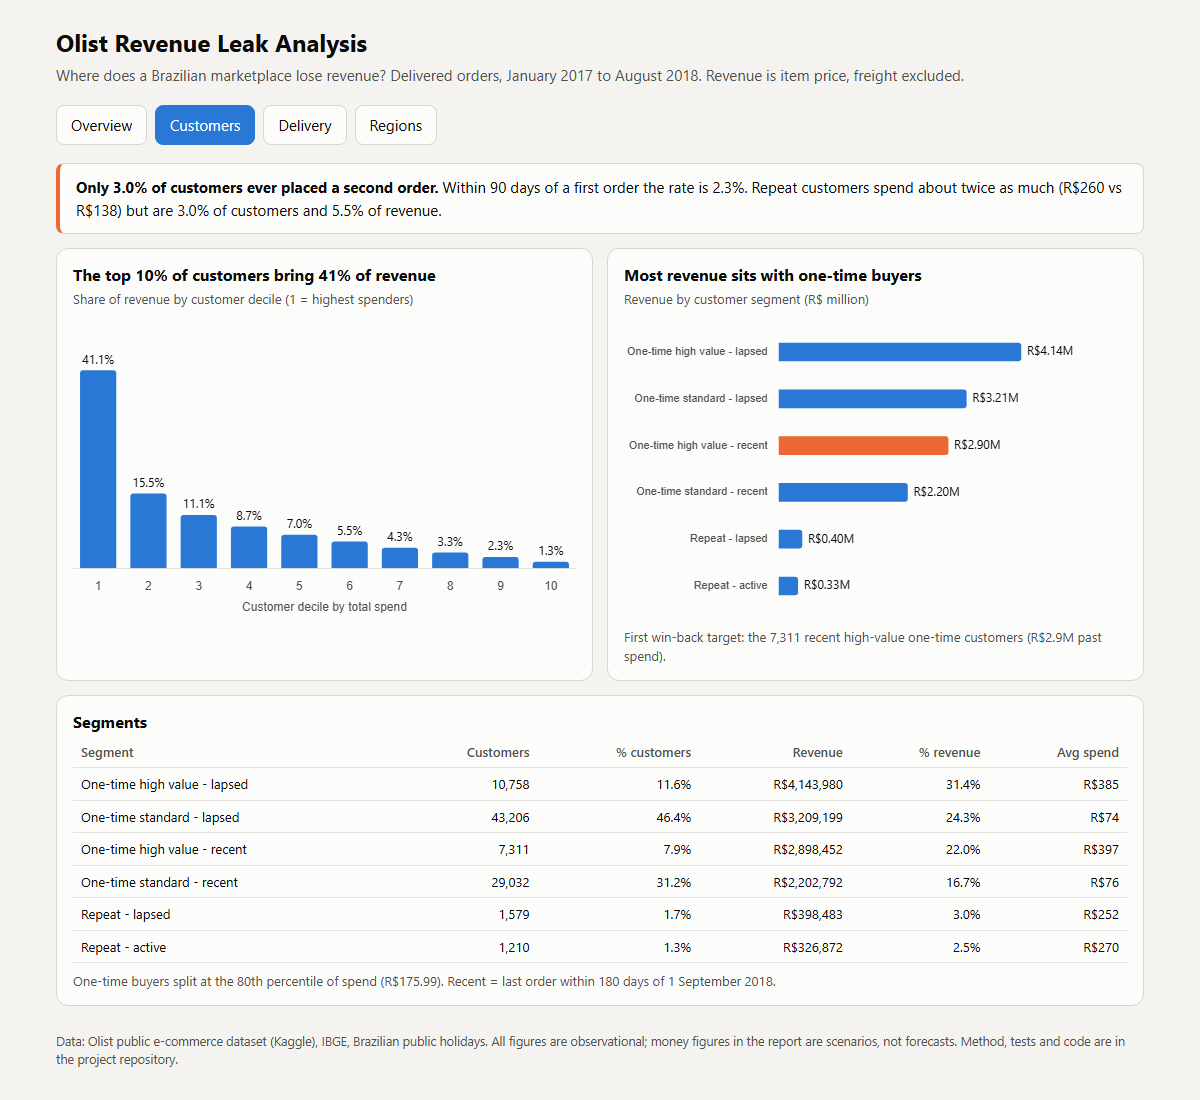

The dashboard page shown, as its layout file describes it:
{"tool":"powerbi","page":{"name":"Customers","canvas":[1280,720],"ordinal":1},"visuals":[{"type":"textbox","box":[20,12,900,44],"z":0},{"type":"textbox","box":[440,80,820,70],"z":10},{"type":"card","fields":{"Values":["fact_orders.Repeat Rate"]},"box":[20,70,195,90],"z":20},{"type":"card","fields":{"Values":["fact_orders.Repeat Customers"]},"box":[225,70,195,90],"z":30},{"type":"clusteredColumnChart","title":"The top 10% of customers bring 41% of revenue (decile 1 = highest spenders)","fields":{"Category":["rfm_segments.decile"],"Y":["rfm_segments.Segment Revenue %"]},"box":[20,170,620,290],"z":40},{"type":"clusteredBarChart","title":"Most revenue sits with one-time buyers","fields":{"Category":["rfm_segments.segment"],"Y":["rfm_segments.Segment Revenue"]},"box":[660,170,600,290],"z":50},{"type":"tableEx","title":"Customer segments","fields":{"Values":["rfm_segments.segment","rfm_segments.Segment Customers","rfm_segments.Segment Revenue","rfm_segments.Segment Revenue %"]},"box":[20,475,1240,230],"z":60}]}

Visuals, with their boxes on the page's 1280x720 design canvas (x1, y1, x2, y2). These are canvas units, not pixel positions in the 1200x1100 screenshot, which may show the page scaled, cropped or inside an application window:
textbox: left=20, top=12, right=920, bottom=56
textbox: left=440, top=80, right=1260, bottom=150
card - fact_orders.Repeat Rate: left=20, top=70, right=215, bottom=160
card - fact_orders.Repeat Customers: left=225, top=70, right=420, bottom=160
"The top 10% of customers bring 41% of revenue (decile 1 = highest spenders)" clusteredColumnChart: left=20, top=170, right=640, bottom=460
"Most revenue sits with one-time buyers" clusteredBarChart: left=660, top=170, right=1260, bottom=460
"Customer segments" tableEx: left=20, top=475, right=1260, bottom=705
